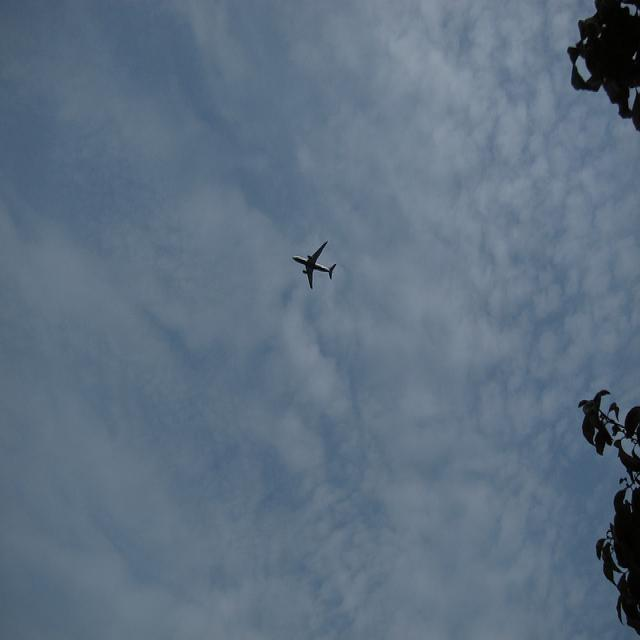airplane: (291, 237, 338, 290)
